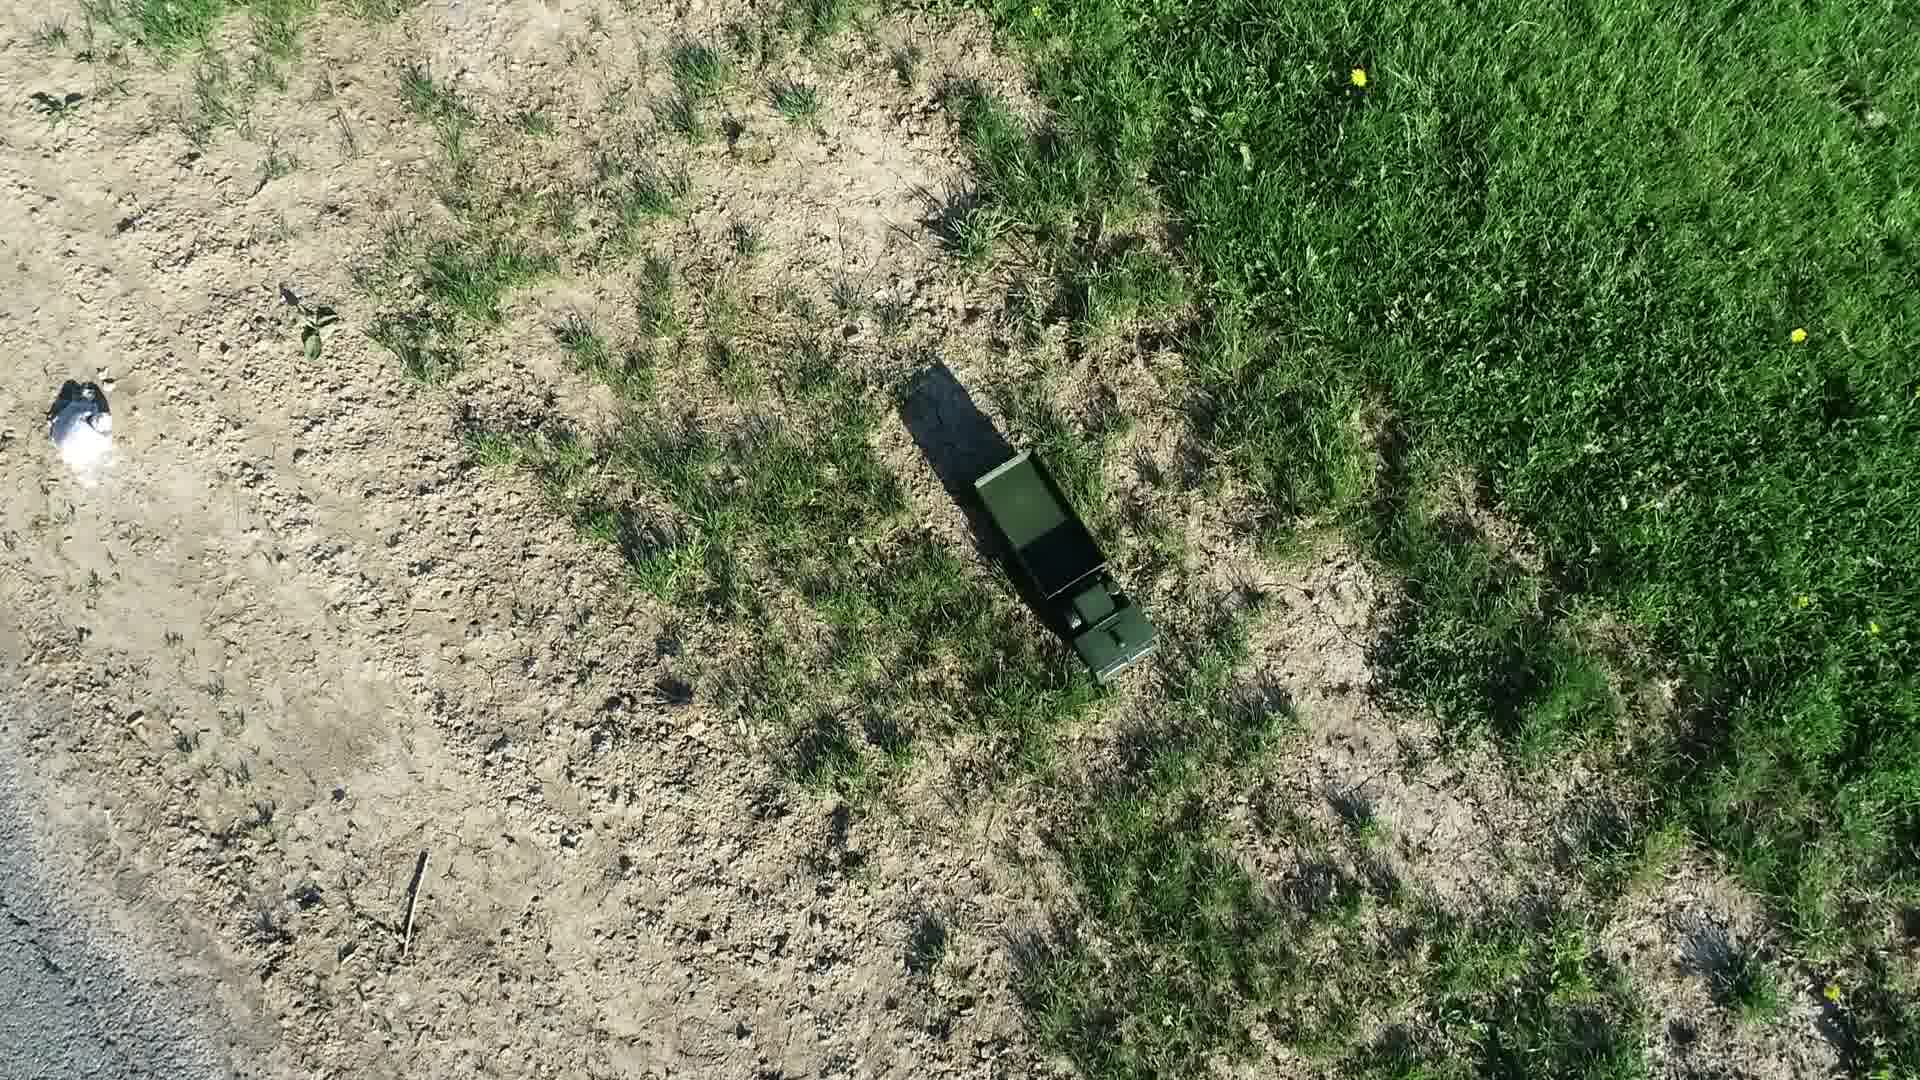transporter9: (957, 435, 1168, 702)
